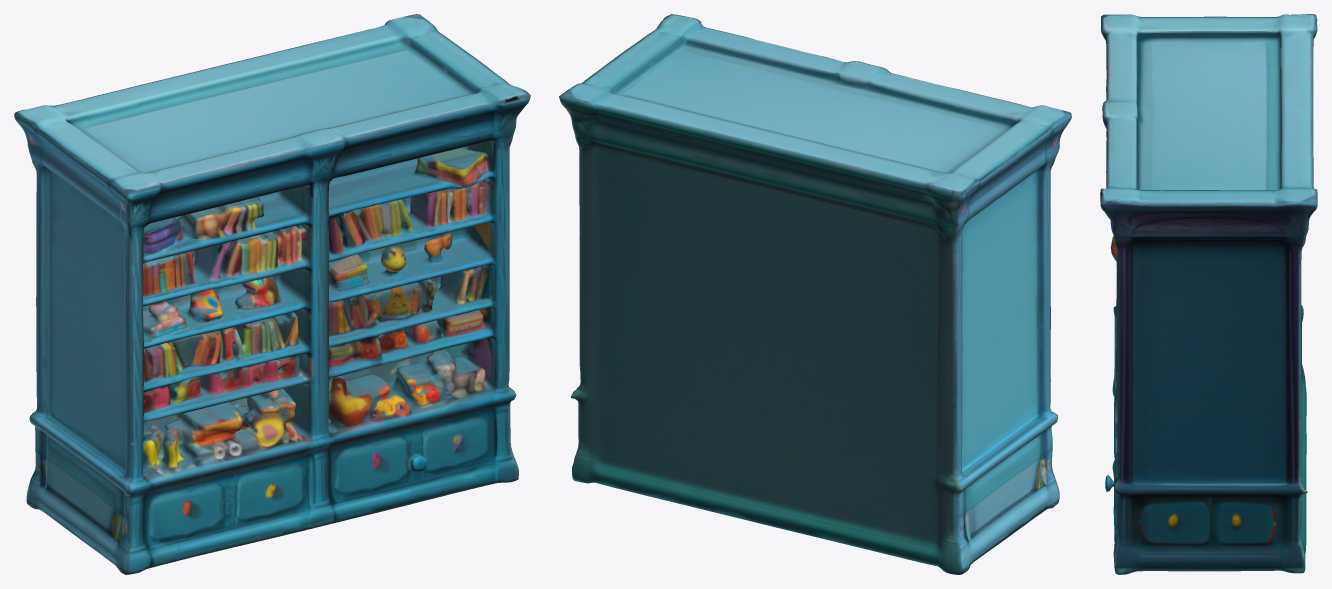
The model's file is Bookshelf.fbx.
The picture shows the model from 3 angles, left to right: view 1: azimuth 30°, elevation 25°; view 2: azimuth 150°, elevation 25°; view 3: azimuth 270°, elevation 25°; orthographic projection. The views are drawn at different scales.
Visible parts, largest first — view 1: Mesh_0; view 2: Mesh_0; view 3: Mesh_0.
Boxes of the visible parts, bbox=[...] form: Mesh_0: bbox=[14, 14, 530, 574]; Mesh_0: bbox=[559, 14, 1071, 574]; Mesh_0: bbox=[1100, 14, 1317, 574].
Bounding box in the file's own units: 201 × 186 × 97.14.
1 material, 1 textured.
